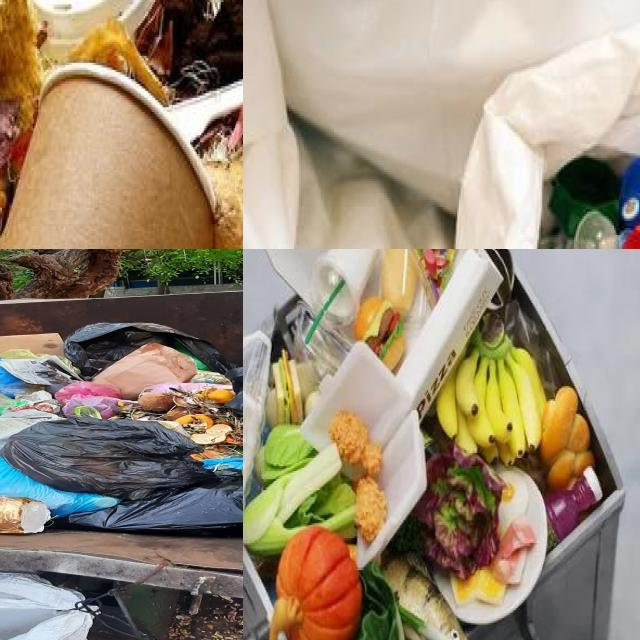Disposable: (0, 64, 213, 249), (34, 0, 155, 60), (167, 79, 243, 141)
Garbage: (243, 249, 607, 640), (0, 323, 243, 536)
Plastic: (0, 496, 50, 534)
Plastic_Bag: (1, 417, 213, 500), (53, 468, 243, 536), (64, 322, 235, 380), (0, 458, 122, 519), (56, 382, 122, 418), (172, 340, 210, 370), (141, 382, 232, 394), (191, 370, 232, 385), (0, 349, 50, 359), (202, 458, 243, 469), (45, 380, 70, 394), (59, 357, 78, 371)
contaminated_waste: (300, 343, 426, 568), (431, 467, 546, 623), (397, 249, 500, 417), (312, 249, 378, 323)
